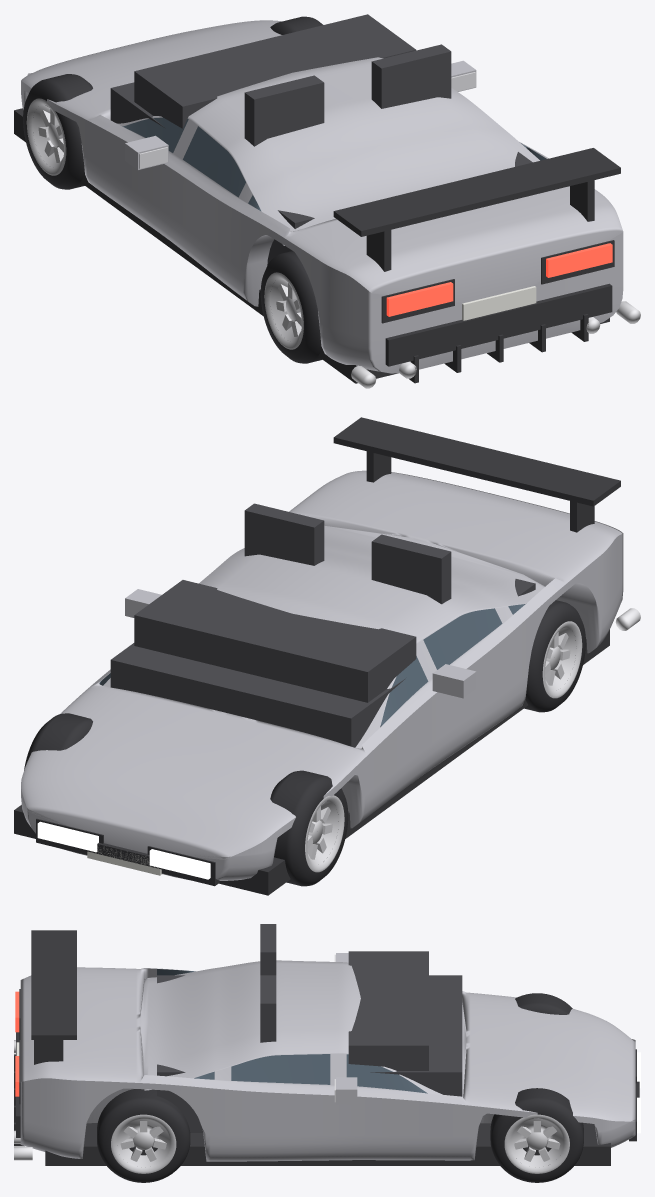
Rendered from uragani.glb.
The picture shows the model from 3 angles, top to bottom: view 1: azimuth 30°, elevation 25°; view 2: azimuth 150°, elevation 25°; view 3: azimuth 270°, elevation 25°; orthographic projection. The views are drawn at different scales.
Parts seen in each view (by area): view 1: body, wheel_fl, wheel_rl, wheel_fr; view 2: body, wheel_fl, wheel_rl, wheel_fr; view 3: body, wheel_rr, wheel_fr, wheel_fl.
Part boxes in pixels (x1,y1,x2,y2): body: (14, 14, 640, 388); wheel_fl: (23, 74, 92, 189); wheel_rl: (260, 251, 322, 363); wheel_fr: (270, 16, 322, 34); body: (14, 417, 640, 895); wheel_fl: (270, 770, 348, 886); wheel_rl: (524, 600, 585, 712); wheel_fr: (24, 713, 92, 770); body: (14, 924, 640, 1165); wheel_rr: (97, 1089, 190, 1182); wheel_fr: (490, 1088, 583, 1182); wheel_fl: (515, 993, 572, 1014).
Bounding box in the file's own units: 2.42 × 1.37 × 4.69.
